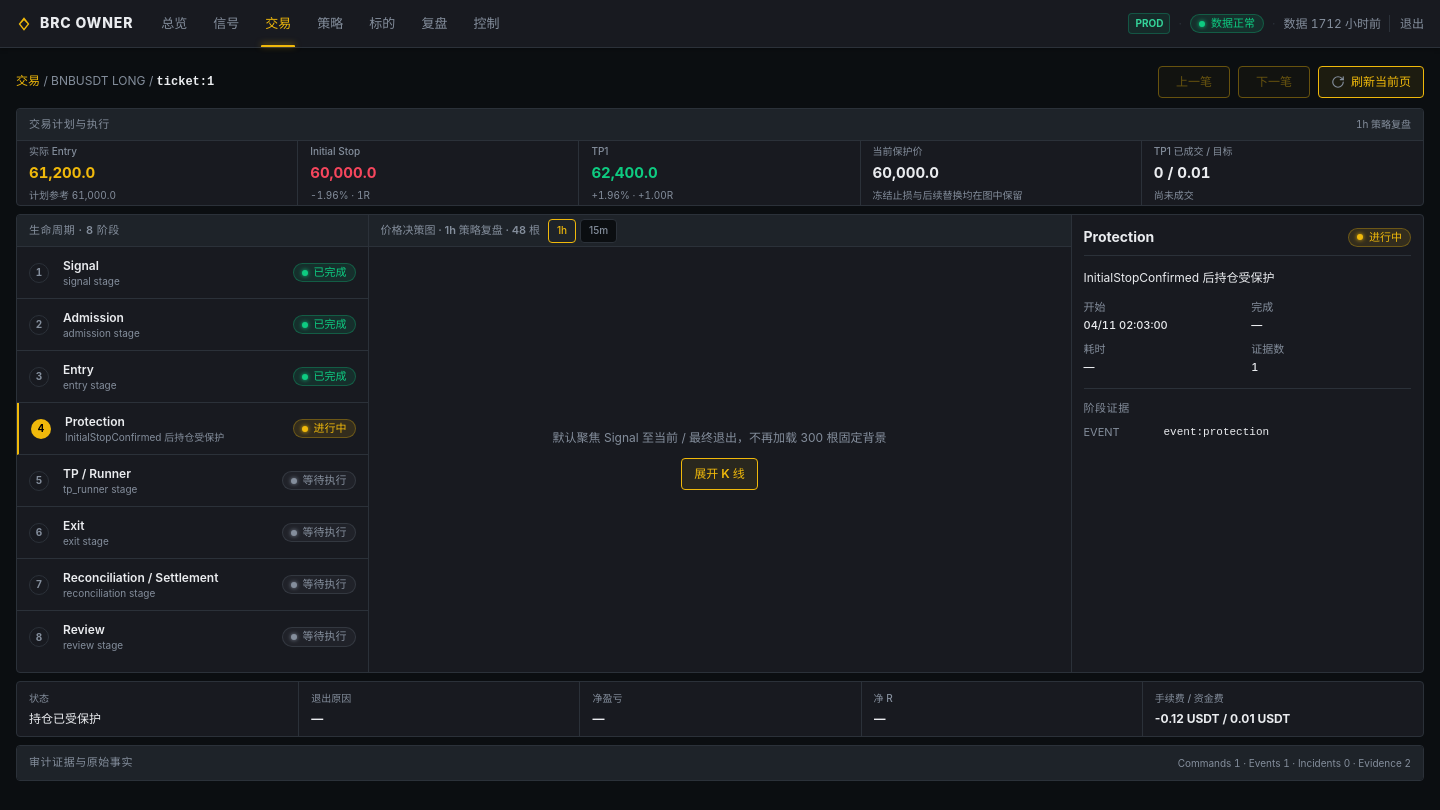
Test case: opens the already loaded K-line data in a full-screen review dialog without another request
Click the button "展开 K 线" at (719, 474), box [681,458,758,490]
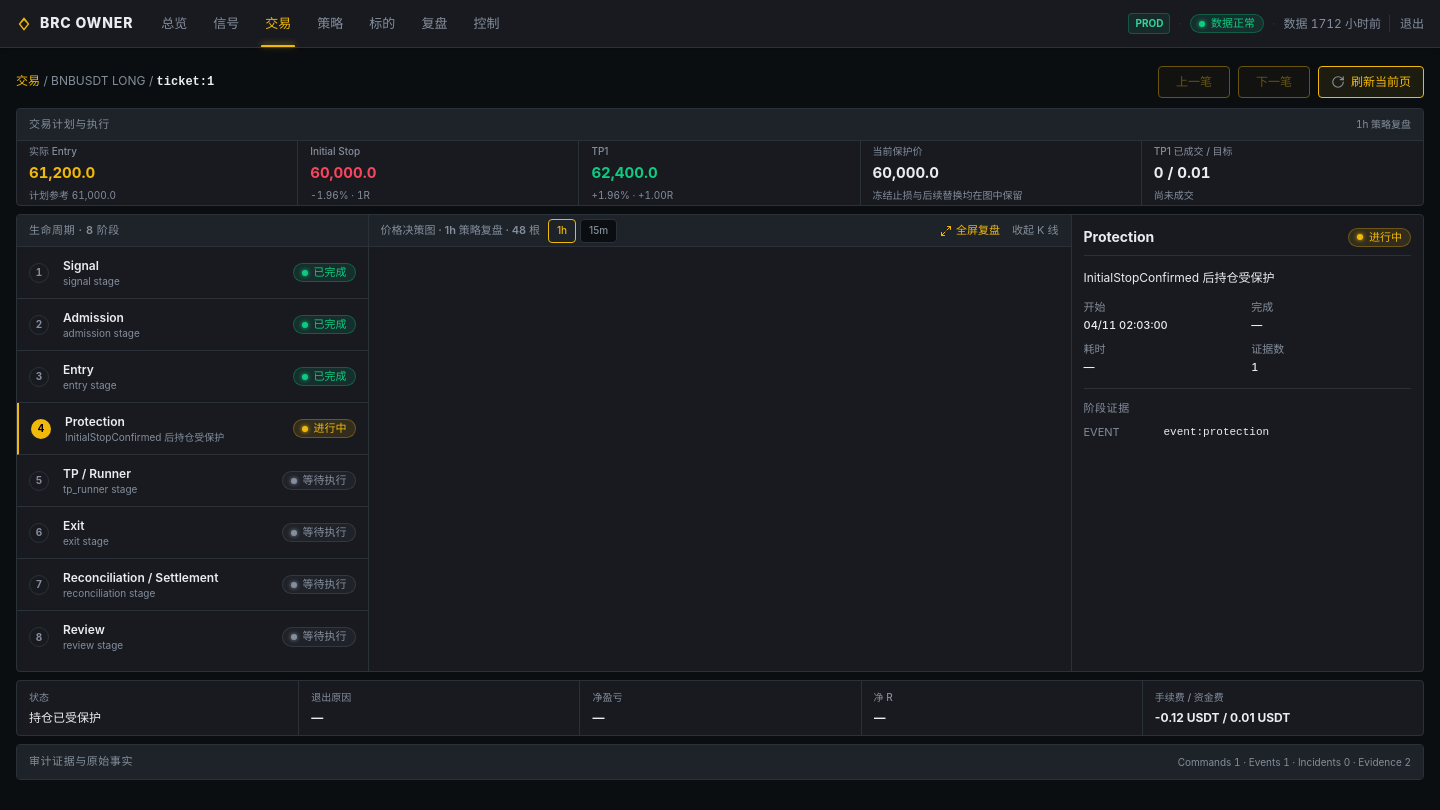
Result: the element with test id "causality-chart" is shown at [368,247,1070,667]
Click the button with aria-label "全屏复盘 K 线" at (970, 230), box [940,222,1000,238]
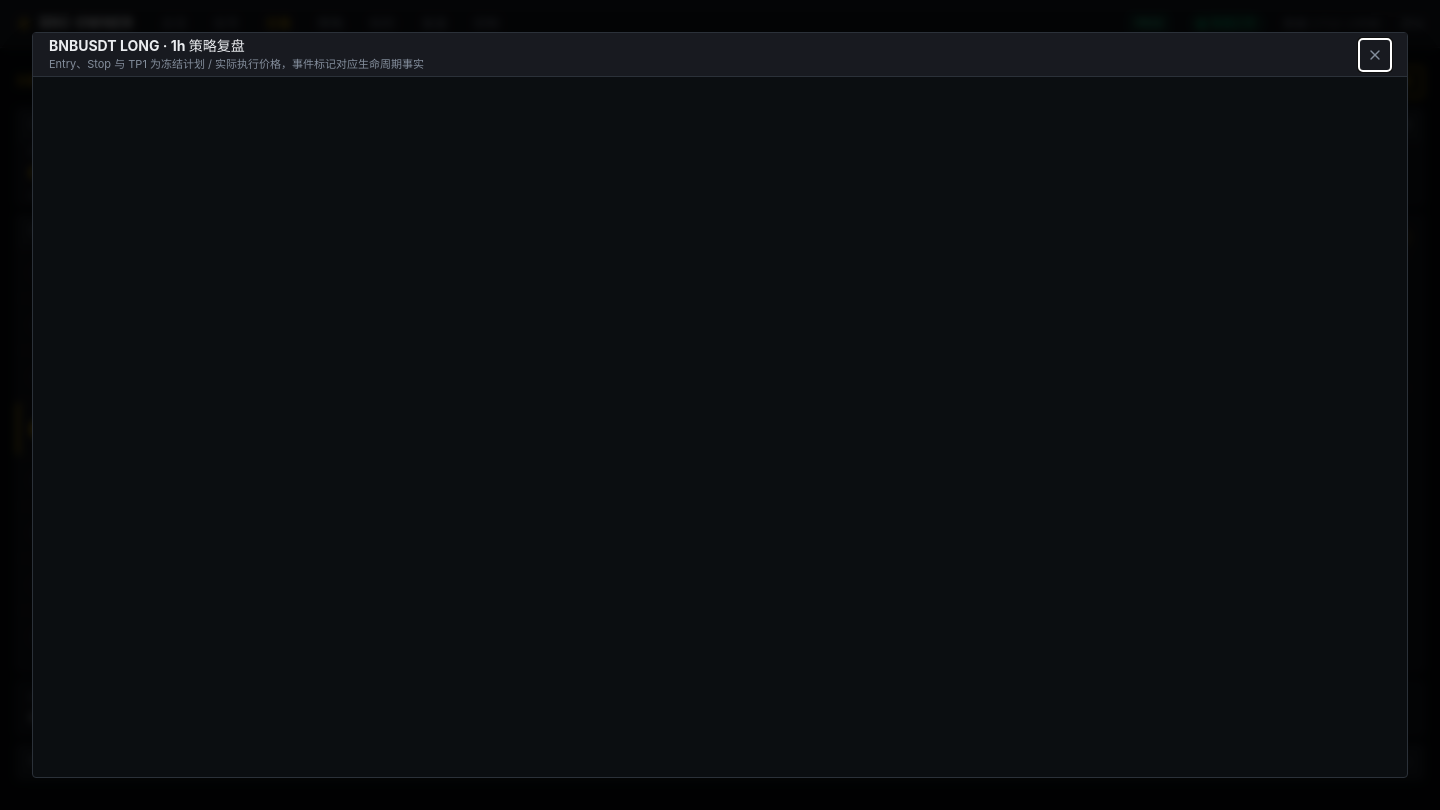
Result: the dialog "BNBUSDT LONG · 1h 策略复盘" is shown
